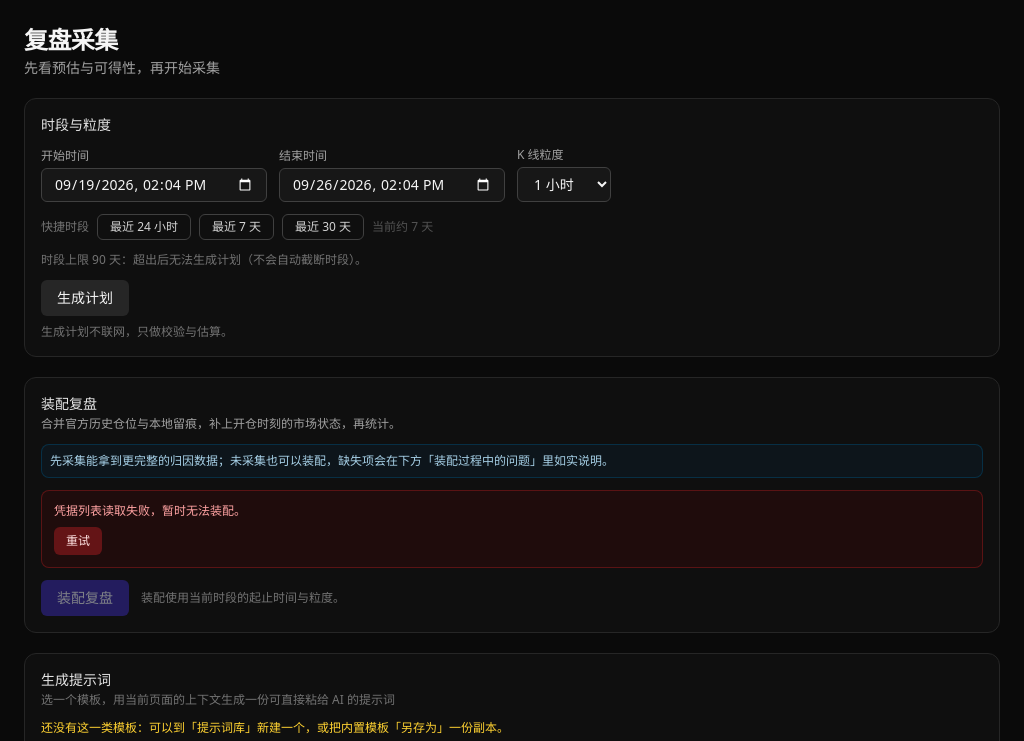
Scenario: ReviewPage › 生成计划后展示预估、标的集与可得性提示，且「生成计划」不联网的说明可见
Click the button "生成计划": (85, 298) [41, 280, 129, 316]
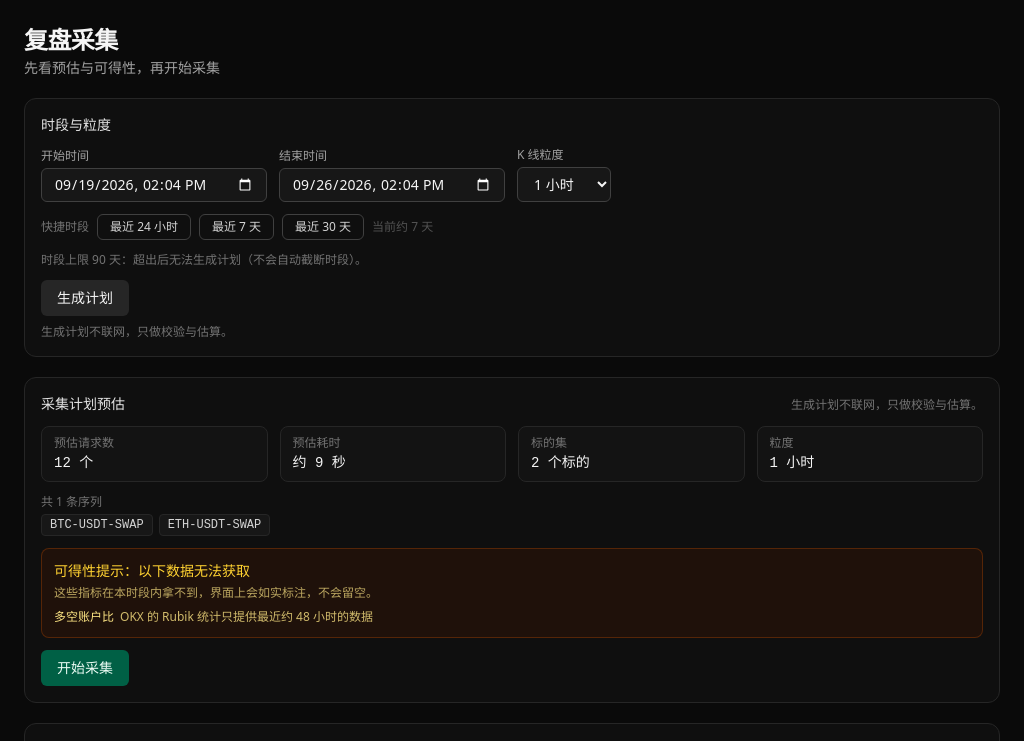
Check: the text "BTC-USDT-SWAP" is shown, box [41, 514, 153, 536]
Check: the text "ETH-USDT-SWAP" is shown, box [159, 514, 270, 536]
Check: the text "可得性提示：以下数据无法获取" is shown, box [54, 561, 250, 580]
